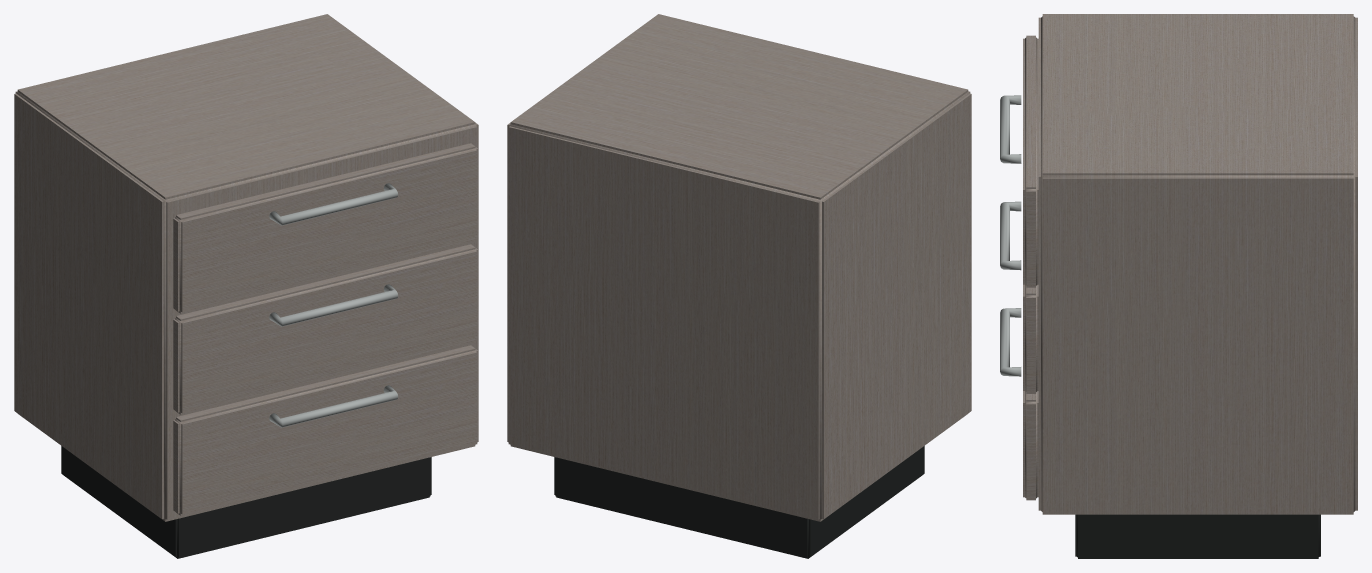
The model's file is modern.bedside.gltf.
The picture shows the model from 3 angles, left to right: view 1: azimuth 30°, elevation 25°; view 2: azimuth 150°, elevation 25°; view 3: azimuth 270°, elevation 25°; orthographic projection. The views are drawn at different scales.
Visible parts, largest first — view 1: modern.bedside.carcass; view 2: modern.bedside.carcass; view 3: modern.bedside.carcass.
Part boxes in pixels (x1,y1,x2,y2): modern.bedside.carcass: [14, 14, 478, 558]; modern.bedside.carcass: [507, 14, 971, 558]; modern.bedside.carcass: [1000, 14, 1357, 558].
Bounding box in the file's own units: 0.47 × 0.54 × 0.437.
3 materials, 1 textured.
